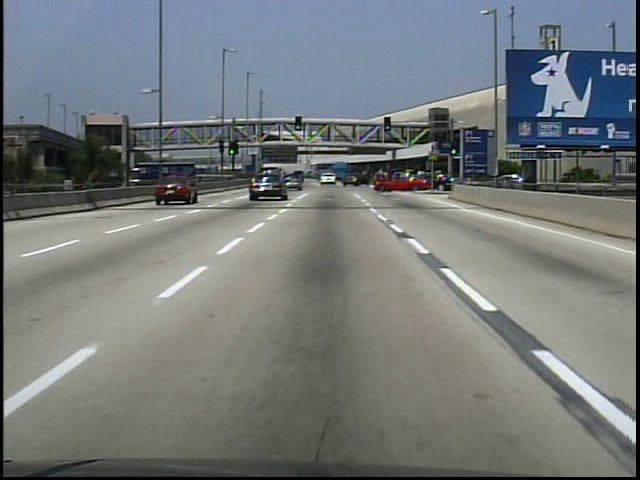person: (228, 132, 235, 145)
